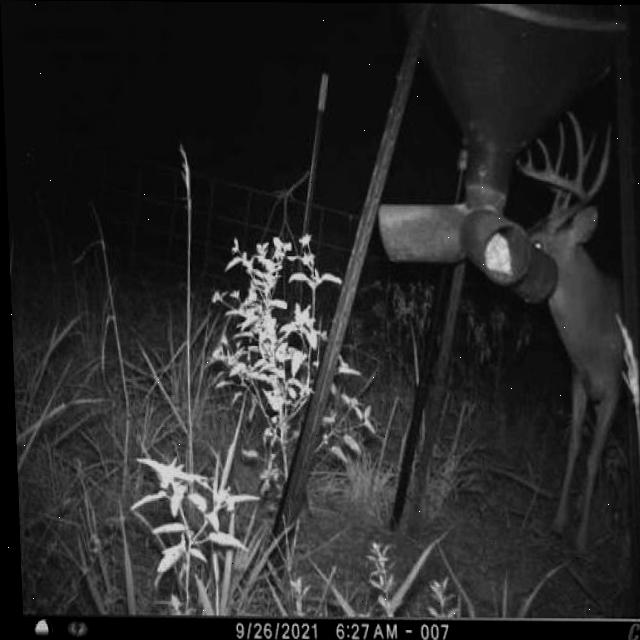Deer: (508, 107, 640, 573)
